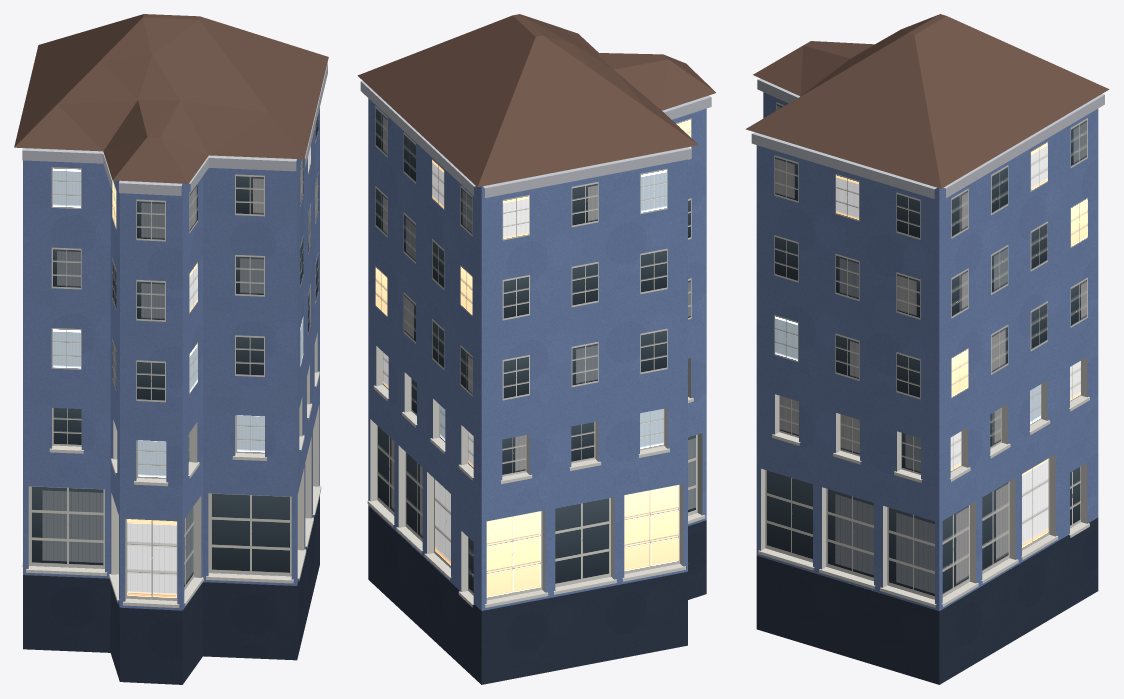
The model's file is langB_zw37.glb.
3 views of the same model, side by side, from view 1: azimuth 30°, elevation 25°; view 2: azimuth 150°, elevation 25°; view 3: azimuth 270°, elevation 25° (orthographic).
Visible parts, largest first — view 1: langB_zw37; view 2: langB_zw37; view 3: langB_zw37.
Boxes of the visible parts, x1,y1,x2,y2 form: langB_zw37: (14,14,328,684); langB_zw37: (357,14,715,684); langB_zw37: (745,14,1109,684).
Size of the model in its own units: 13.91 by 23.84 by 13.45.
3 materials, 3 textured.
